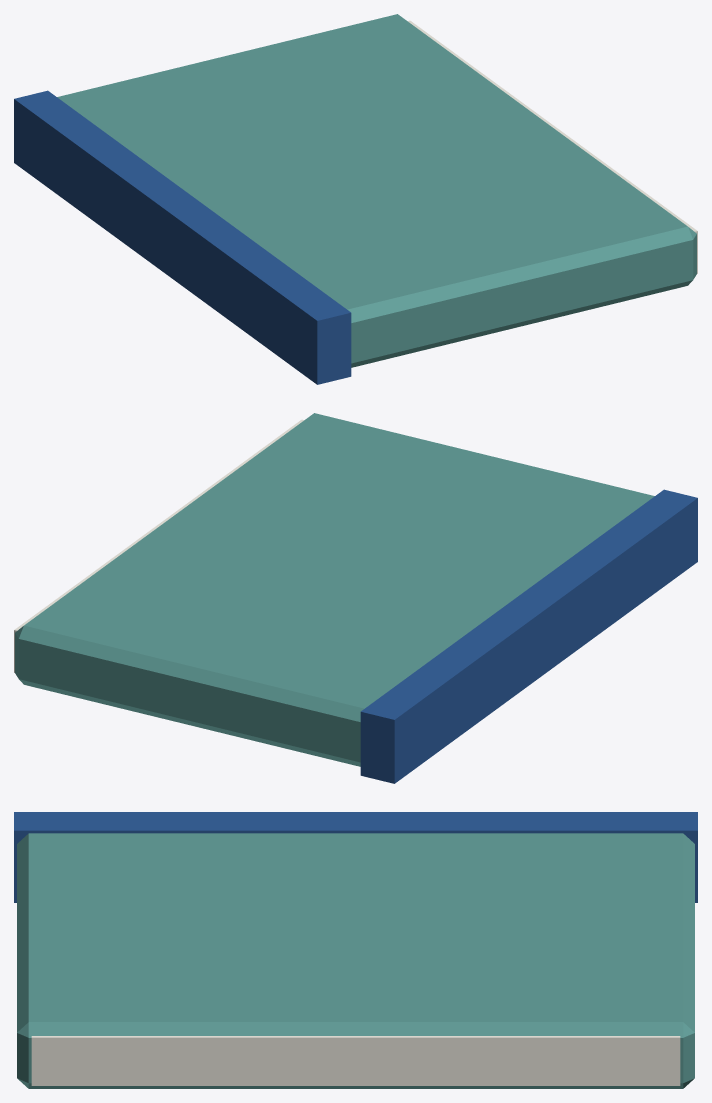
File: PRP_Notebook.fbx
3 renders of one model, top to bottom at view 1: azimuth 30°, elevation 25°; view 2: azimuth 150°, elevation 25°; view 3: azimuth 270°, elevation 25°, orthographic. The views are drawn at different scales.
Parts seen in each view (by area): view 1: PRP_Notebook; view 2: PRP_Notebook; view 3: PRP_Notebook.
Boxes of the visible parts, box(x1,y1,x2,y2) form: PRP_Notebook: box(14, 14, 697, 384); PRP_Notebook: box(14, 413, 697, 783); PRP_Notebook: box(14, 812, 697, 1088).
Size of the model in its own units: 0.1715 by 0.027 by 0.232.
